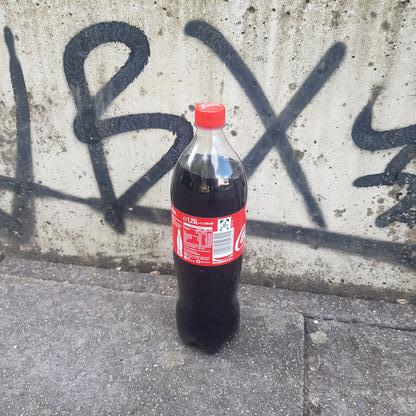coca-cola: (168, 100, 250, 360)
